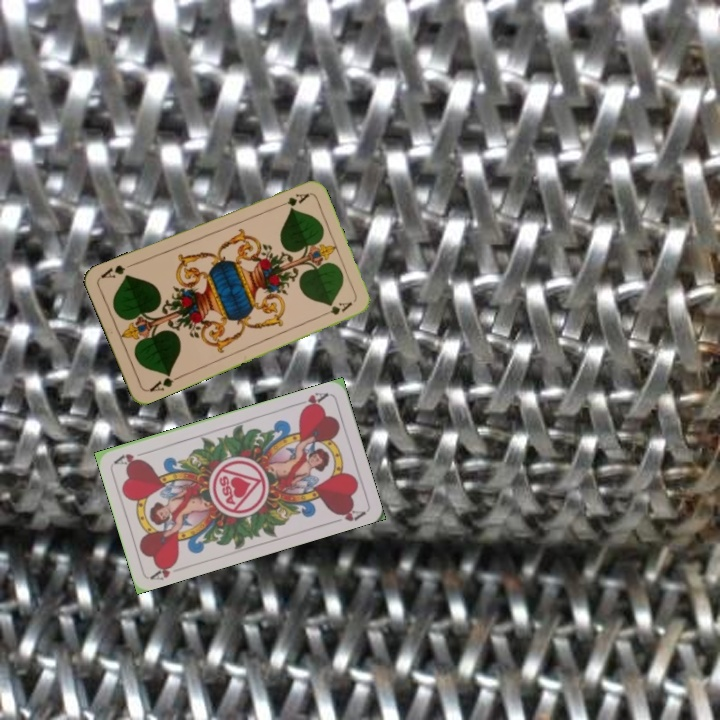GA: (144, 369, 183, 395), (272, 189, 311, 210)
HA: (291, 388, 331, 413), (147, 557, 179, 583)
